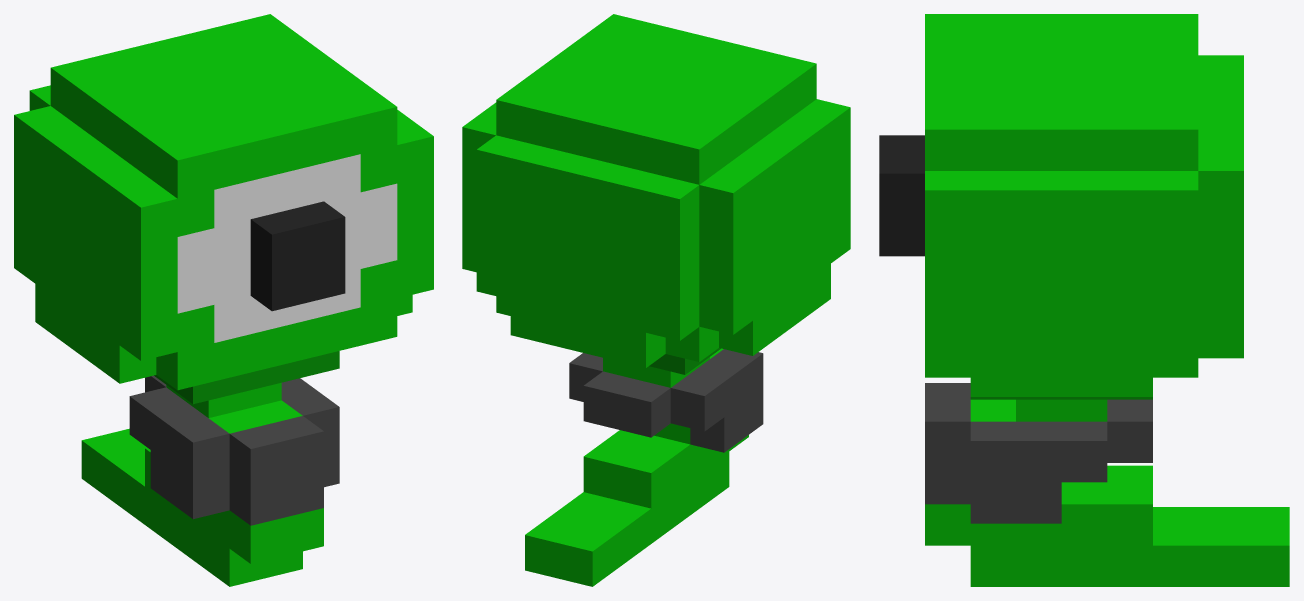
The model's file is alien_eye1c.obj.
3 views of the same model, side by side, from view 1: azimuth 30°, elevation 25°; view 2: azimuth 150°, elevation 25°; view 3: azimuth 270°, elevation 25° (orthographic). The views are drawn at different scales.
Size of the model in its own units: 8 by 12 by 9.
Materials: 1 (1 with a texture image).
